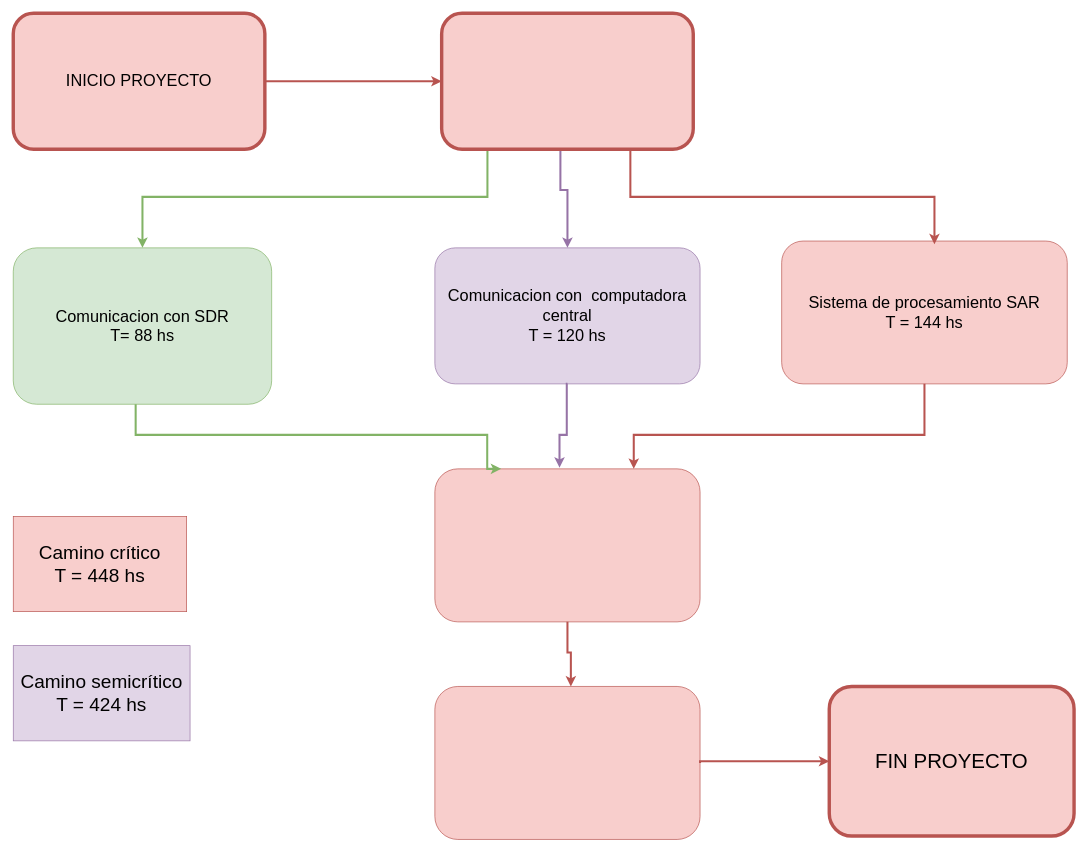
This 1087x851 diagram has some shape labels left out. The box of each missing label's shape, as (x1, y1, x2, y2) in pixels:
Integración de sistemas y pruebas de campo T = 112 hs: (434, 468, 700, 622)
Redaccion del informe final T = 100 hs: (434, 686, 700, 839)
RELEVAMIENTO DE INFORMACION Y ESTADO DEL ARTE T = 68 hs: (440, 11, 695, 151)
